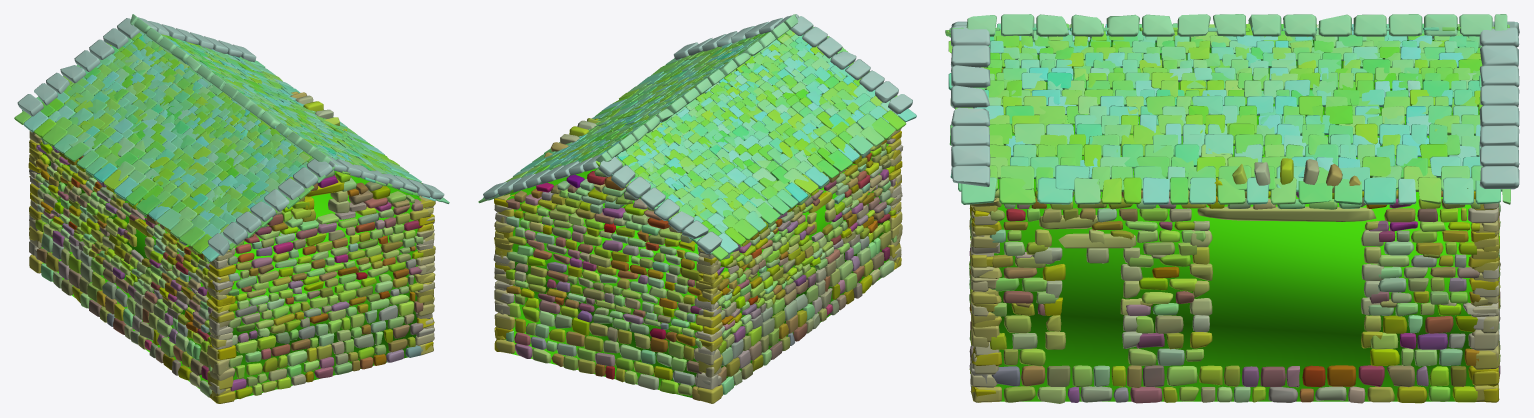
Rendered from SM_Barn_05.glb.
3 views of the same model, side by side, from view 1: azimuth 30°, elevation 25°; view 2: azimuth 150°, elevation 25°; view 3: azimuth 270°, elevation 25° (orthographic). The views are drawn at different scales.
Visible parts, largest first — view 1: SM_Barn_05; view 2: SM_Barn_05; view 3: SM_Barn_05.
Part boxes in pixels (x1,y1,x2,y2): SM_Barn_05: (14,14,449,403); SM_Barn_05: (478,14,916,403); SM_Barn_05: (945,14,1519,403).
Bounding box in the file's own units: 6.61 × 5.91 × 9.77.
